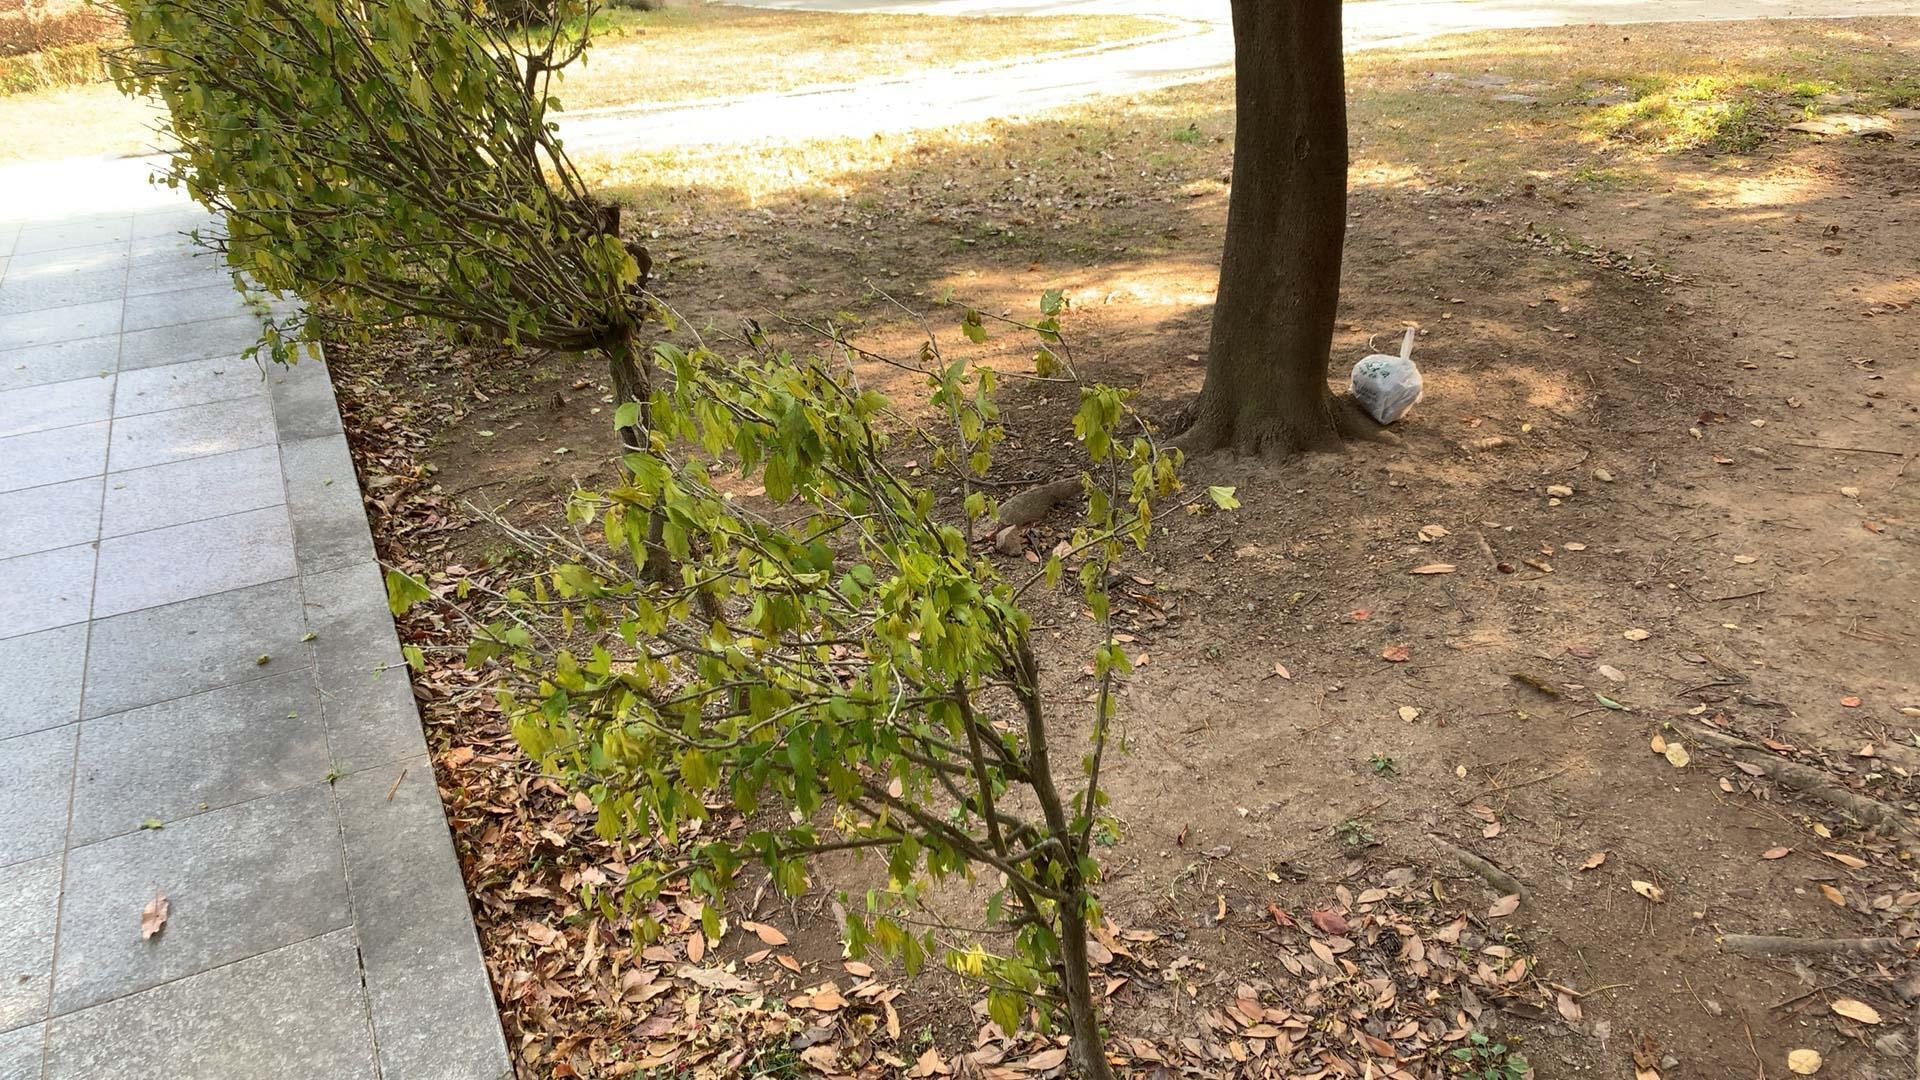white_bag: (1346, 324, 1429, 429)
